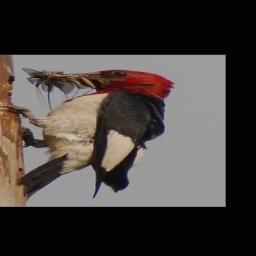Woodpecker: (0, 69, 173, 200)
